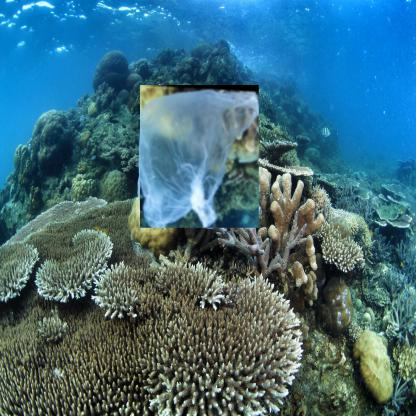plastic-bag: (140, 85, 260, 229)
